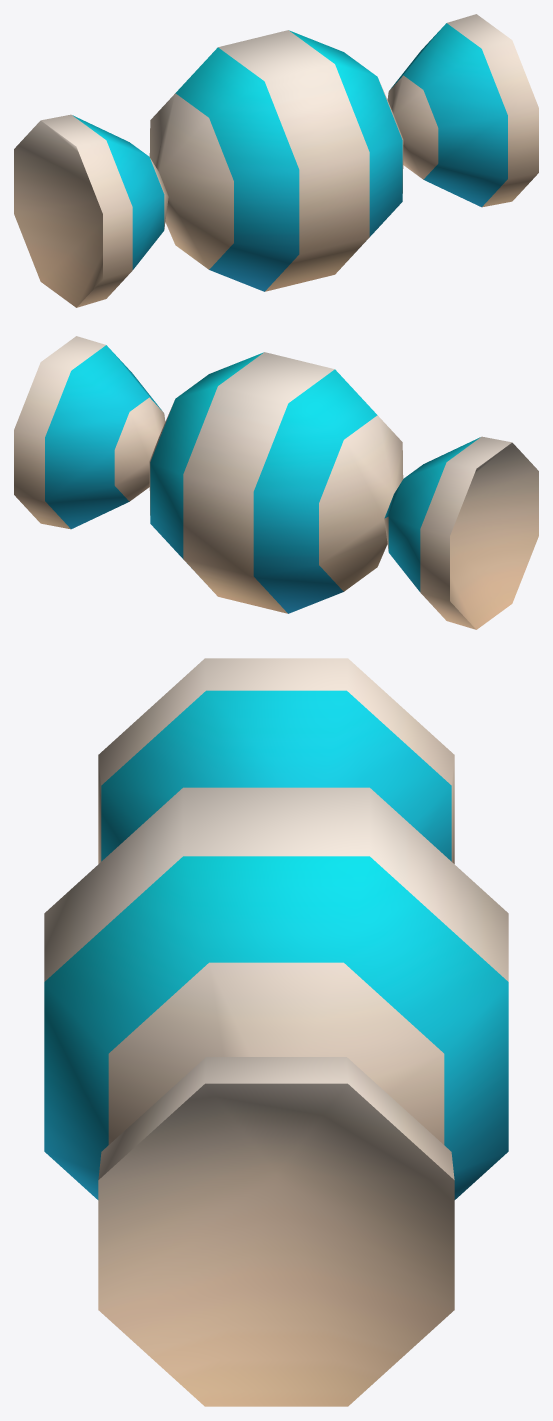
File: candy_blue_a.glb
The picture shows the model from 3 angles, top to bottom: view 1: azimuth 30°, elevation 25°; view 2: azimuth 150°, elevation 25°; view 3: azimuth 270°, elevation 25°; orthographic projection. The views are drawn at different scales.
Visible parts, largest first — view 1: candy_blue_A; view 2: candy_blue_A; view 3: candy_blue_A.
Boxes of the visible parts, <box> form: candy_blue_A: <box>14,14,538,307</box>; candy_blue_A: <box>14,336,538,629</box>; candy_blue_A: <box>44,658,508,1406</box>.
Bounding box in the file's own units: 0.65 × 0.3 × 0.3.
Materials: 1 (1 with a texture image).
